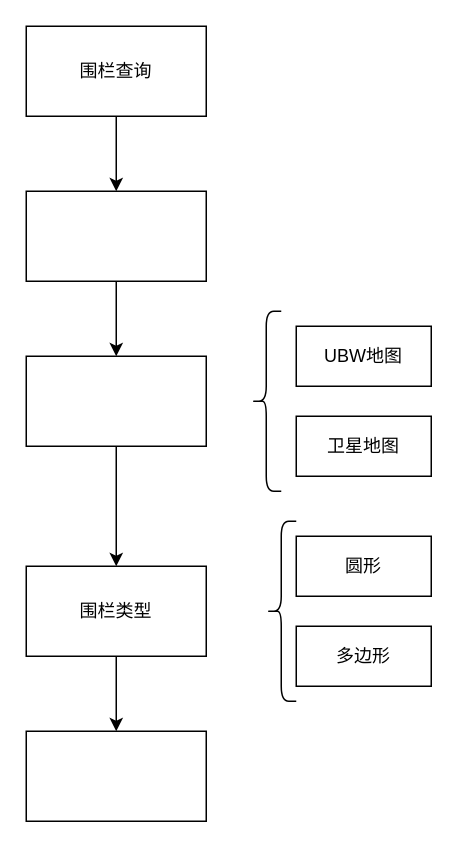
Image size: 458x848. Some labels were removed from this diagram. The centre of each missing label's shape, as x and y in pixels:
"人员围栏关系" goes at (x=115, y=775).
"人员查询" goes at (x=115, y=235).
"地图类型" goes at (x=115, y=400).
